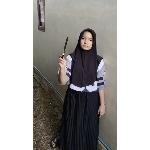Pisau: (56, 34, 72, 62)
